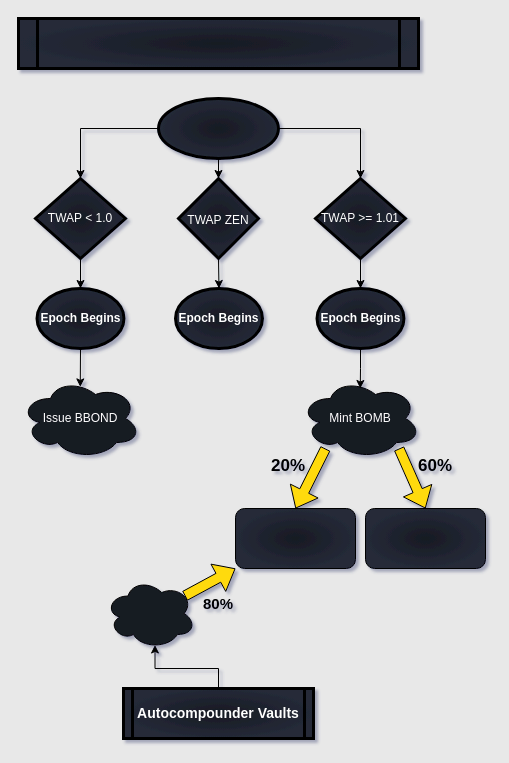
Image size: 509x763. Some labels were removed from this diagram. Here are the shapes that lost their labels. From the top down, the box of each, then its label:
(16, 16, 420, 70): BOMB Distribution
(156, 96, 280, 160): Epoch Ends
(234, 508, 356, 568): BOMB stakers (xBOMB)
(364, 508, 486, 568): BSHARE stakers in the Boardroom
(104, 578, 196, 648): Withdrawal Fees
